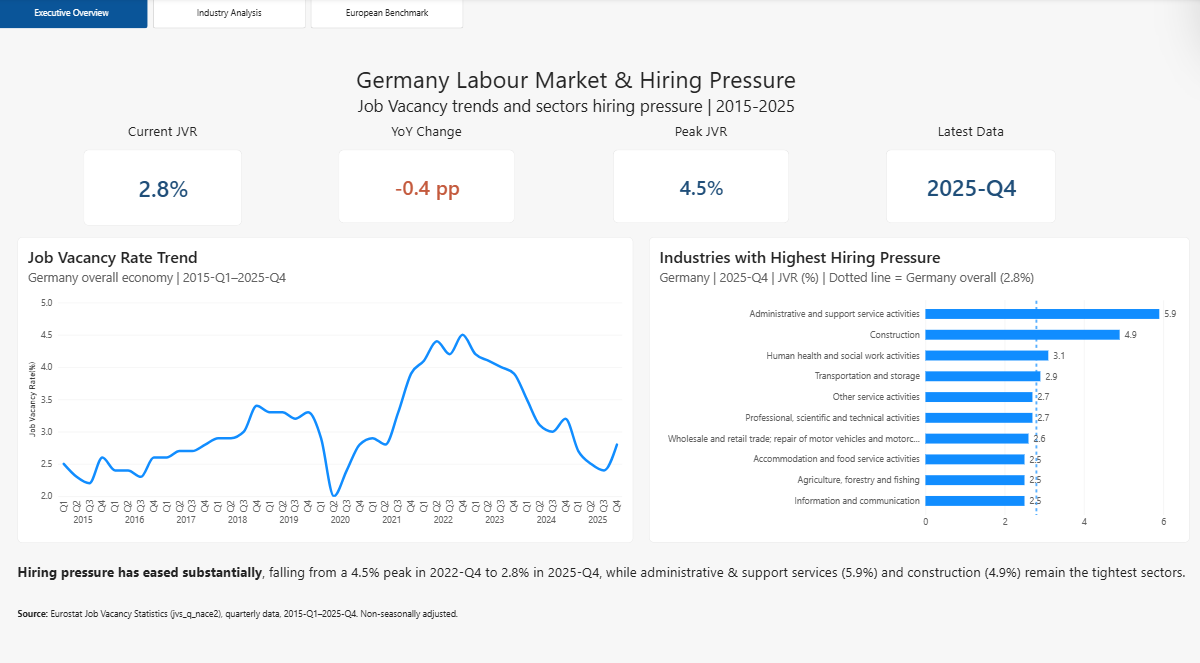

The dashboard page shown, as its layout file describes it:
{"tool":"powerbi","page":{"name":"Executive Overview","canvas":[1920,1080],"ordinal":0},"visuals":[{"type":"cardVisual","title":"Current JVR","fields":{"Data":["_Measures.Latest JVR Display"]},"box":[140,197.5,252,166],"z":0},{"type":"cardVisual","title":"YoY Change","fields":{"Data":["_Measures.Latest JVR YoY Display"]},"box":[547.2,197.5,280,162],"z":1000},{"type":"cardVisual","title":"Peak JVR","fields":{"Data":["_Measures.Peak JVR Display"]},"box":[982.3,197.5,280,162],"z":2000},{"type":"cardVisual","title":"Latest Data","fields":{"Data":["_Measures.Latest Quarter"]},"box":[1417.5,197.5,270,162],"z":3000},{"type":"lineChart","title":"Job Vacancy Rate Trend","fields":{"Category":["DimDate.Year","DimDate.Quarter"],"Y":["_Measures.Job Vacancy Rate"]},"box":[36.7,381.7,979,486.7],"z":4000},{"type":"barChart","title":"Industries with Highest Hiring Pressure","fields":{"Category":["DimIndustry.Industry"],"Y":["_Measures.Job Vacancy Rate"]},"box":[1040,382,860,486],"z":5000},{"type":"textbox","box":[140,105,1567.5,92.5],"z":6000},{"type":"textbox","box":[35,900,1865,70],"z":6001},{"type":"textbox","box":[35,970,800,42.5],"z":6002},{"type":"pageNavigator","box":[0,0,745,50],"z":6003}]}

Visuals, with their boxes in screenshot pixels (x1, y1, x2, y2), scaled from the page's 1920x1080 canvas onto the 1200x663 screenshot:
"Current JVR" cardVisual: left=88, top=121, right=245, bottom=223
"YoY Change" cardVisual: left=342, top=121, right=517, bottom=221
"Peak JVR" cardVisual: left=614, top=121, right=789, bottom=221
"Latest Data" cardVisual: left=886, top=121, right=1055, bottom=221
"Job Vacancy Rate Trend" lineChart: left=23, top=234, right=635, bottom=533
"Industries with Highest Hiring Pressure" barChart: left=650, top=235, right=1188, bottom=533
textbox: left=88, top=64, right=1067, bottom=121
textbox: left=22, top=552, right=1188, bottom=595
textbox: left=22, top=595, right=522, bottom=622
pageNavigator: left=0, top=0, right=466, bottom=31
